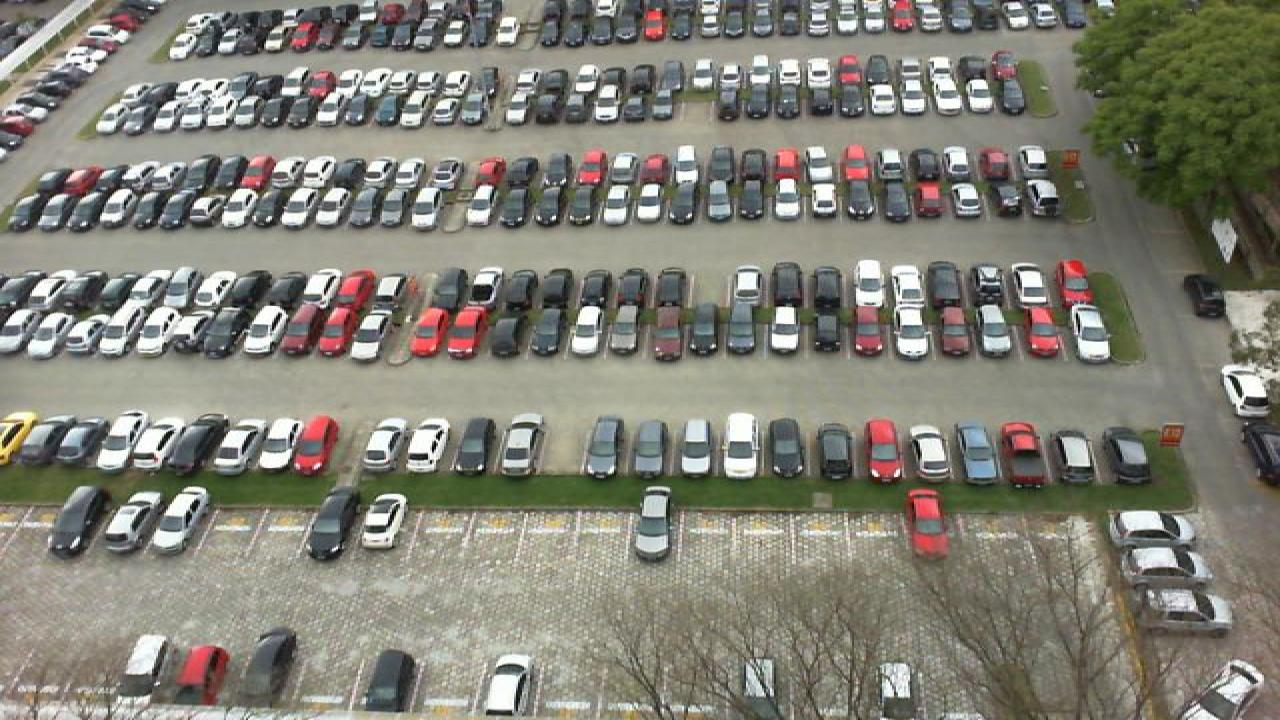Car: (1130, 582, 1232, 634), (46, 485, 110, 559), (102, 486, 166, 556), (306, 485, 360, 561), (166, 414, 228, 477), (244, 628, 298, 700), (362, 648, 418, 717), (152, 486, 210, 552), (1118, 544, 1218, 582), (480, 653, 534, 720), (630, 485, 676, 562), (120, 633, 170, 703), (178, 645, 230, 711), (1000, 422, 1050, 488), (250, 416, 304, 475), (1112, 508, 1200, 544), (952, 423, 1002, 486), (96, 410, 148, 470), (906, 488, 950, 558), (496, 414, 544, 478), (292, 414, 340, 476), (906, 424, 954, 486), (1104, 426, 1154, 485), (1220, 364, 1274, 418), (20, 416, 76, 468), (62, 418, 114, 472), (212, 420, 264, 474), (360, 416, 408, 474), (402, 417, 452, 472), (1054, 429, 1102, 486), (584, 414, 626, 479), (132, 419, 180, 474), (452, 415, 496, 475), (722, 412, 762, 478), (360, 492, 406, 549), (864, 419, 904, 482), (766, 418, 806, 480), (814, 420, 854, 482), (1062, 303, 1104, 360), (442, 305, 488, 357), (632, 419, 672, 477), (1018, 304, 1060, 359), (974, 304, 1016, 359), (274, 304, 316, 359), (678, 418, 716, 478), (238, 305, 280, 359), (124, 305, 166, 359), (312, 304, 352, 360), (892, 301, 930, 359), (202, 307, 244, 359), (162, 306, 204, 358), (16, 308, 58, 359), (934, 303, 972, 359), (408, 305, 448, 358), (488, 305, 530, 355), (350, 306, 388, 361), (646, 306, 684, 360), (90, 307, 130, 358), (54, 307, 94, 358), (608, 305, 646, 358), (568, 305, 606, 357), (850, 302, 886, 356), (808, 303, 846, 353), (766, 304, 802, 356), (726, 304, 762, 356), (686, 306, 722, 358), (528, 308, 566, 357)
